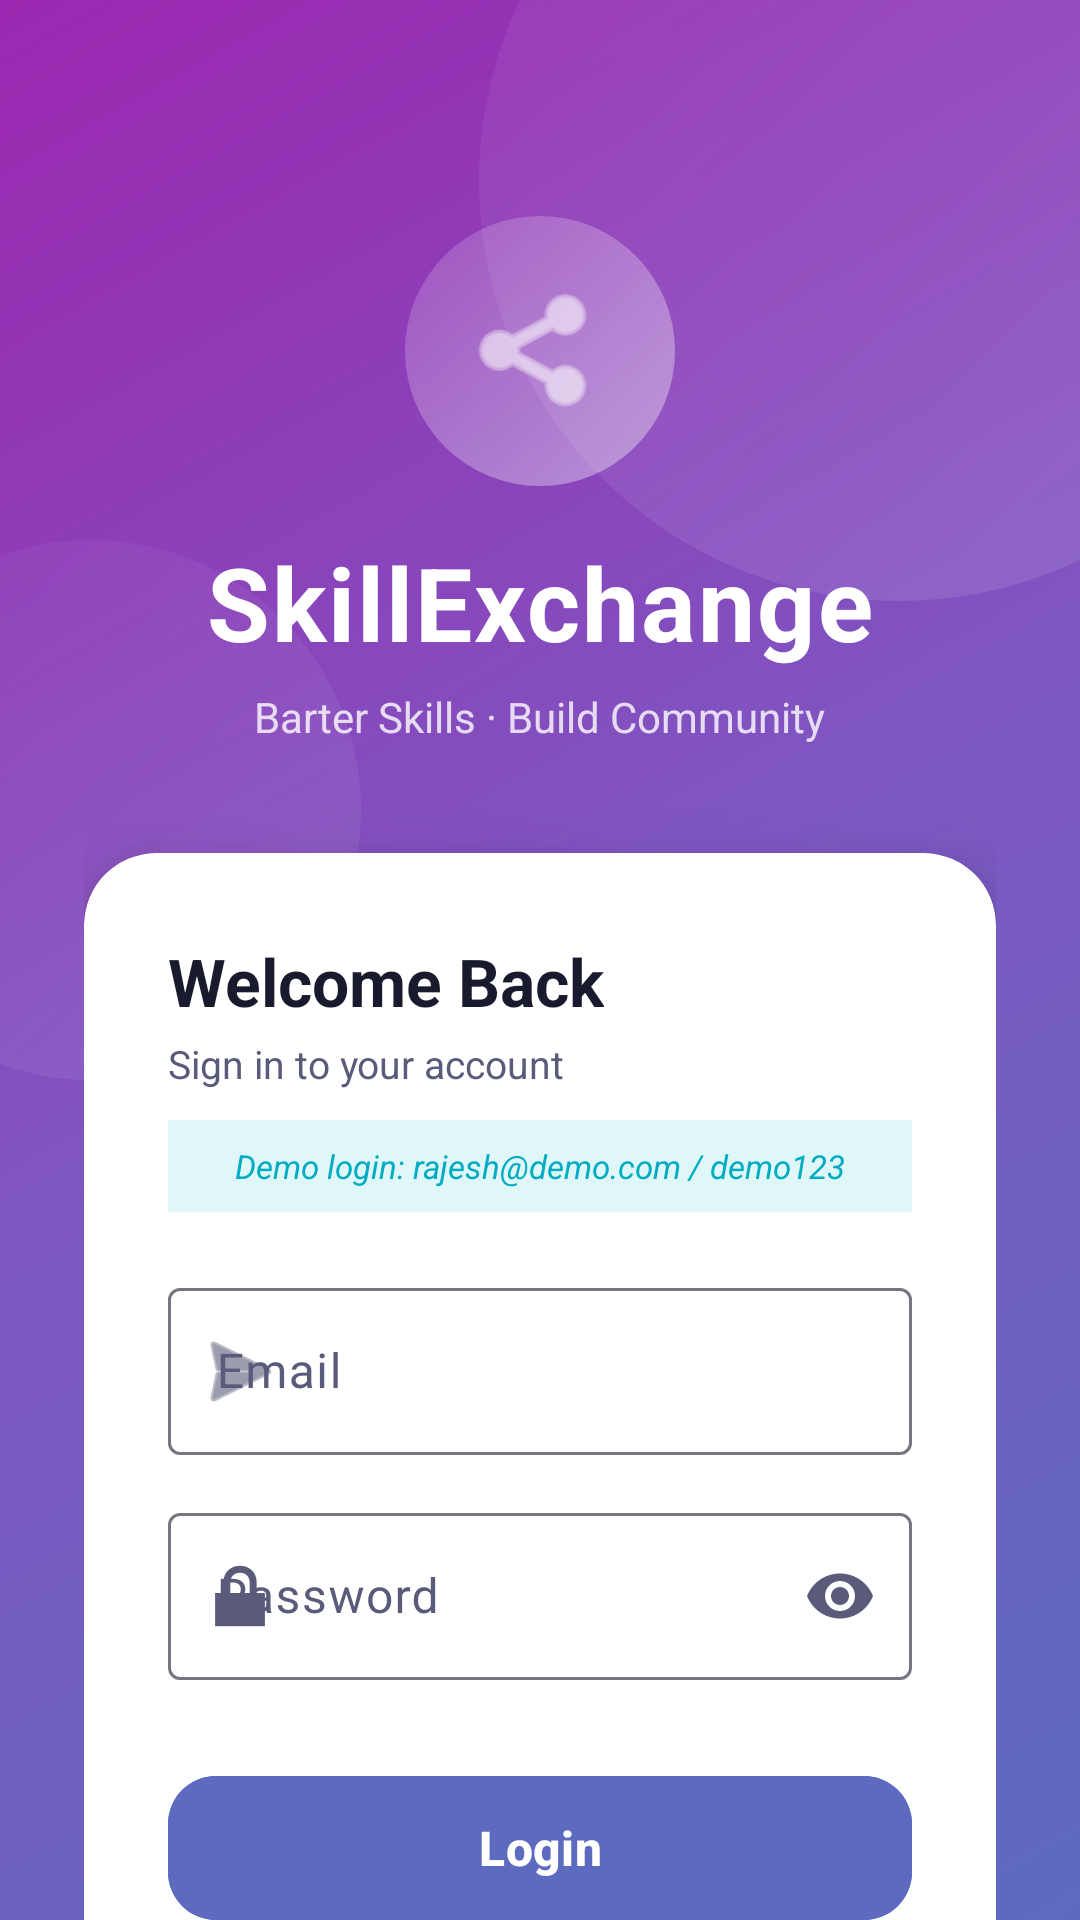

Named icons in this screenshot (1080px×1920px) and their centers, (x,y):
share: (533,350)
